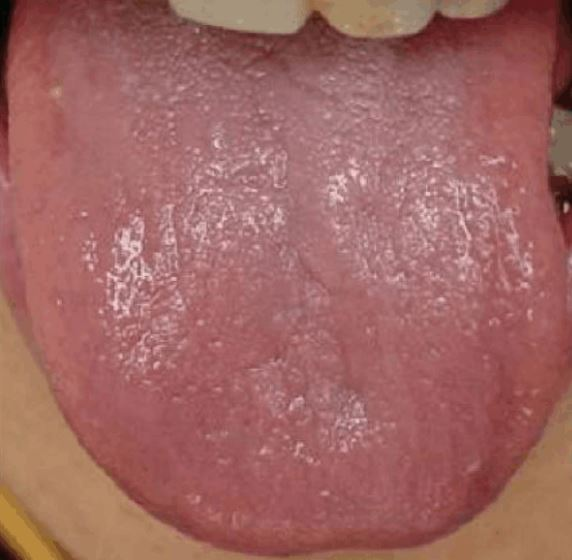botaishe: (90, 116, 529, 364)
